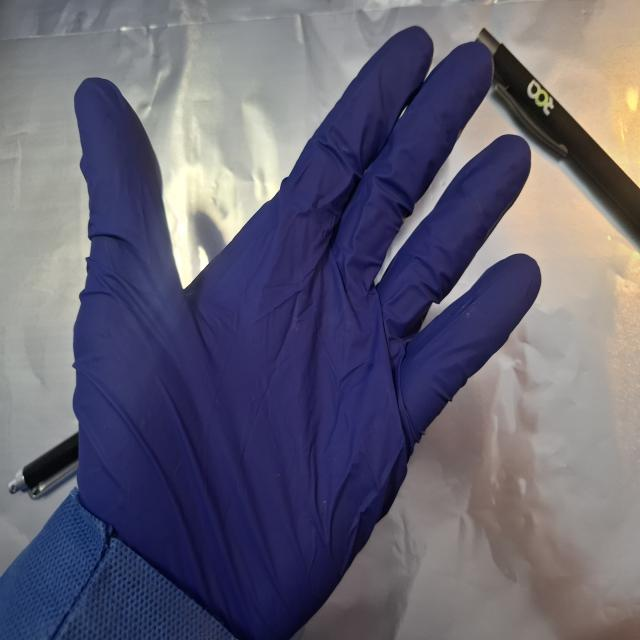glove_on: (68, 22, 546, 639)
